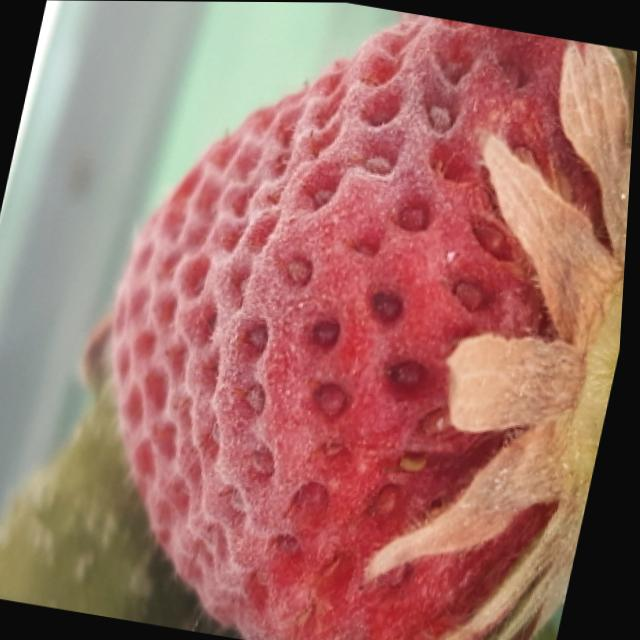Powdery Mildew Fruit: (111, 14, 634, 640)
